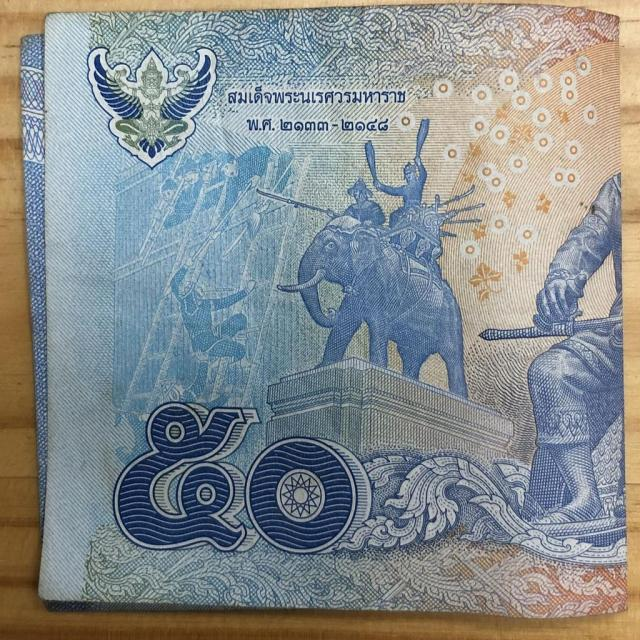THAI50: (22, 4, 629, 618)
